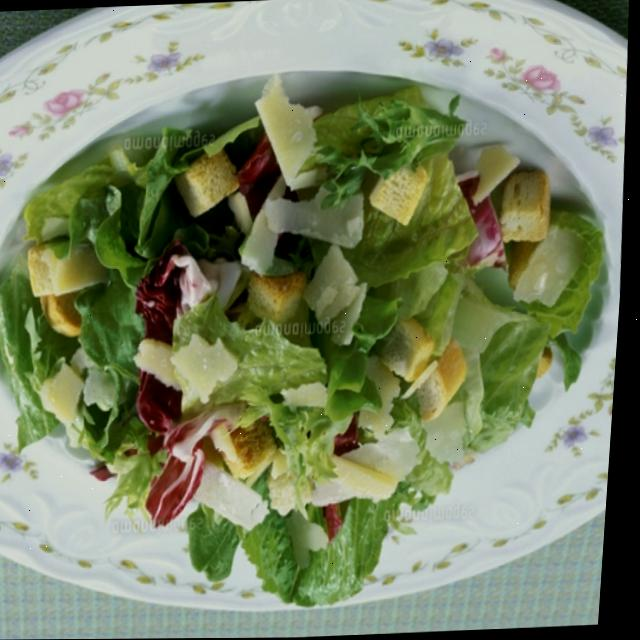蔬菜料理: (0, 26, 638, 621)
